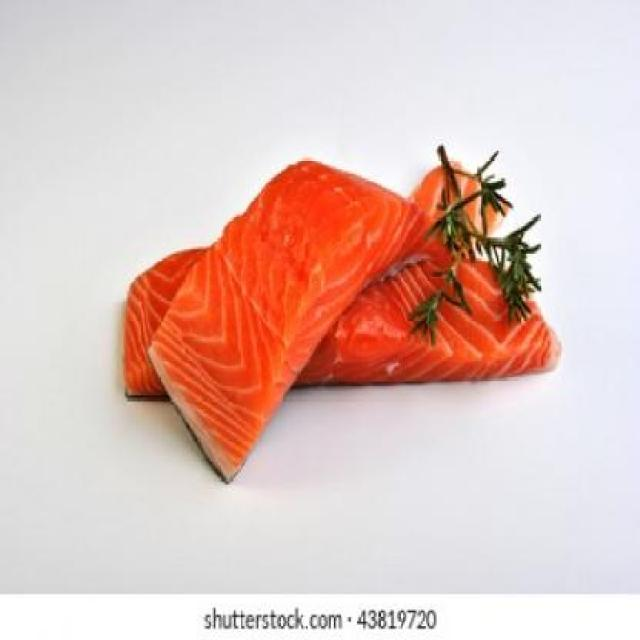salmon: (152, 146, 520, 473), (106, 198, 589, 400)
